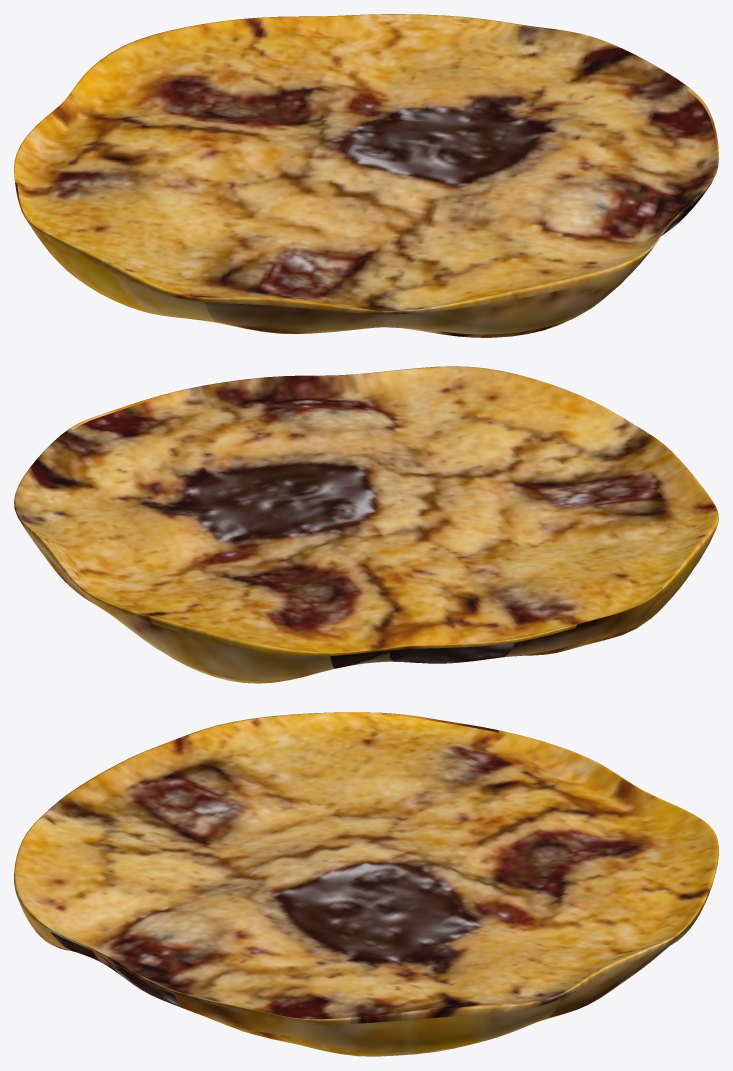
Rendered from Cookie2.fbx.
3 views of the same model, one above another, from view 1: azimuth 30°, elevation 25°; view 2: azimuth 150°, elevation 25°; view 3: azimuth 270°, elevation 25° (orthographic). The views are drawn at different scales.
Visible parts, largest first — view 1: Sphere; view 2: Sphere; view 3: Sphere.
Boxes of the visible parts, <box> form: Sphere: <box>14,14,718,337</box>; Sphere: <box>14,366,718,683</box>; Sphere: <box>14,712,718,1056</box>.
Size of the model in its own units: 346 by 39.47 by 337.
1 material, 1 textured.
